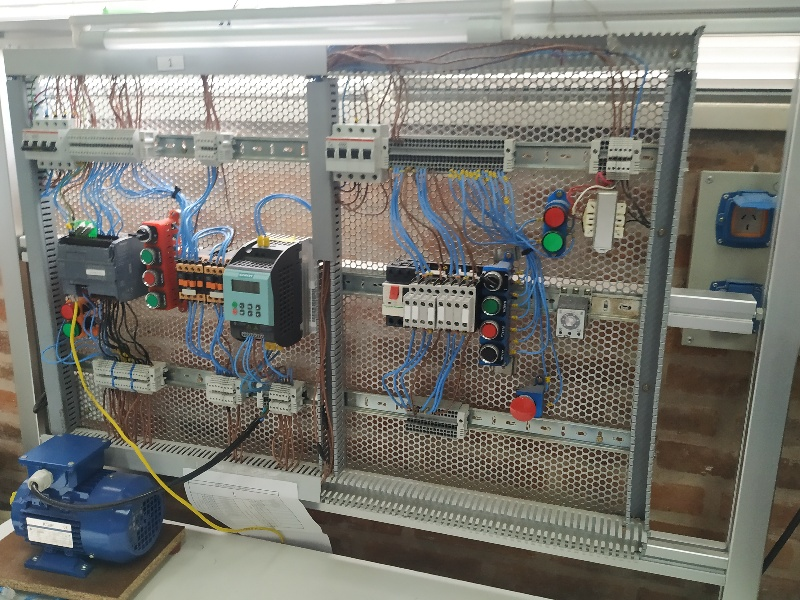Tablero 1: (5, 47, 660, 513)
